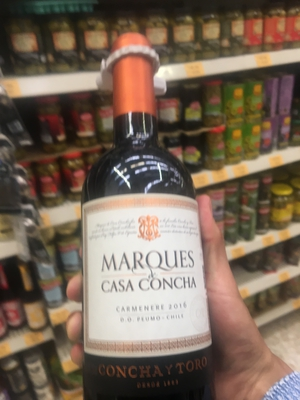marques de casa concha carmenere: (74, 39, 241, 400)
